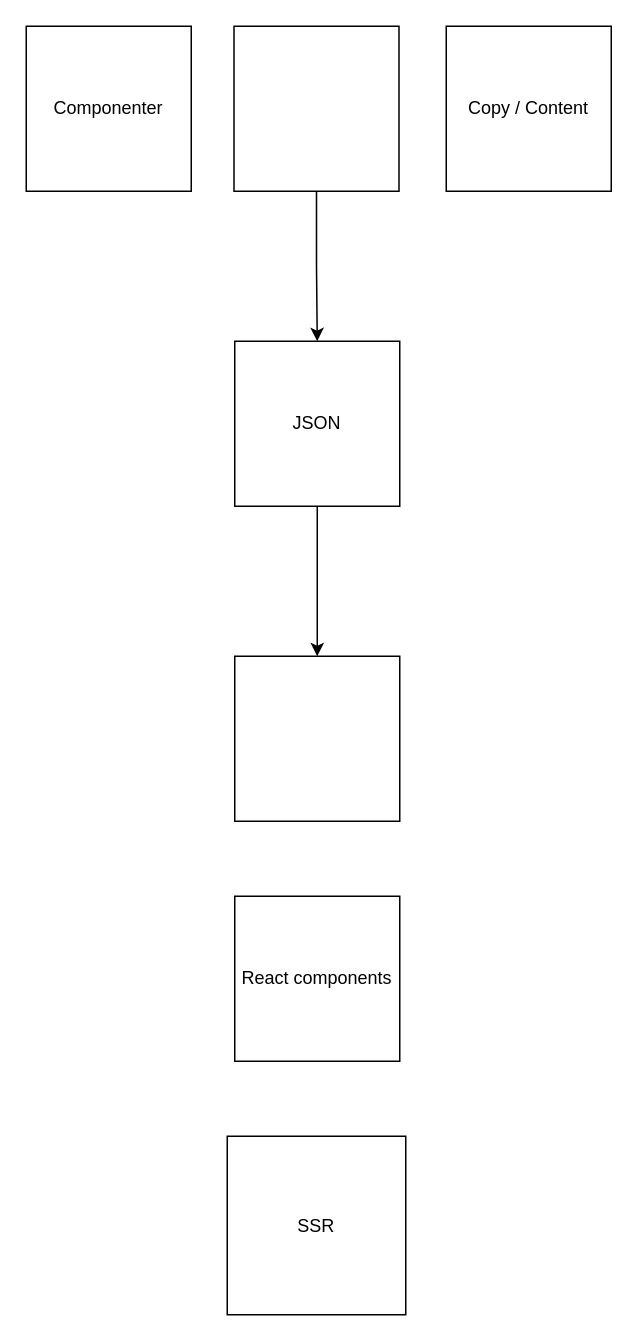
Some shapes in this 638 by 1341 pixel diagram are drawn without their labels. Here are the shapes that lost their labels. From the top down, the centre of each, then its label:
At [315,108]: "CMS Optimizely".
At [316,738]: "Parser".
